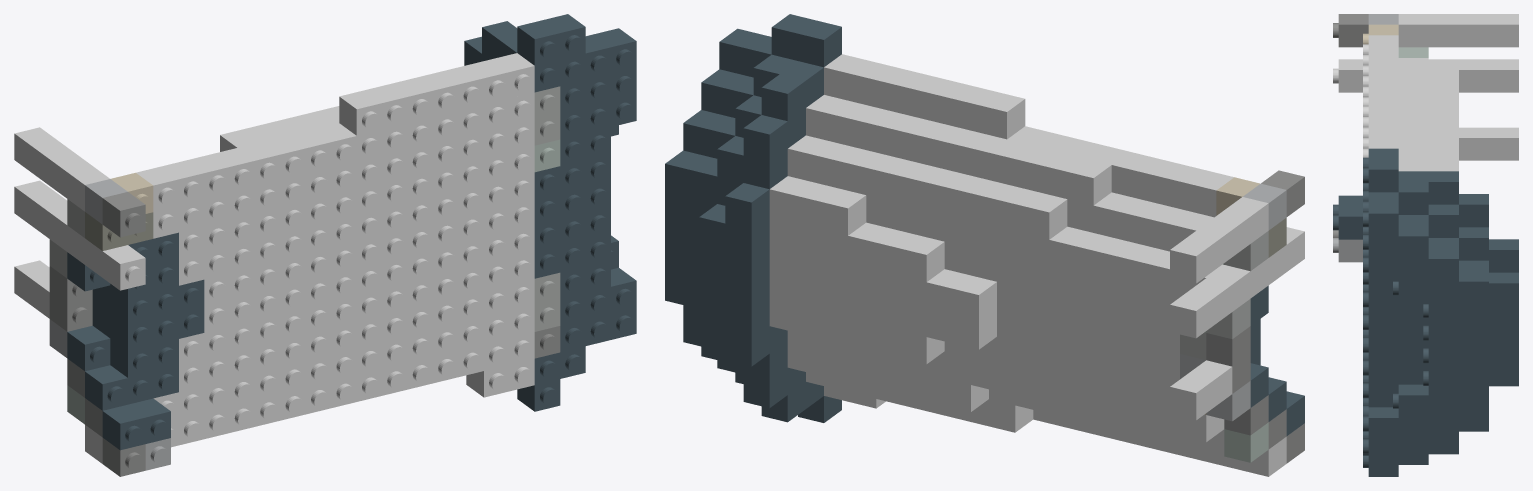
File: full.glb
3 views of the same model, side by side, from view 1: azimuth 30°, elevation 25°; view 2: azimuth 150°, elevation 25°; view 3: azimuth 270°, elevation 25° (orthographic). The views are drawn at different scales.
Parts seen in each view (by area): view 1: world; view 2: world; view 3: world.
Part boxes in pixels (bbox=[...]): world: bbox=[14, 14, 636, 476]; world: bbox=[665, 14, 1304, 476]; world: bbox=[1333, 14, 1518, 476].
Bounding box in the file's own units: 168 × 112 × 59.4.
